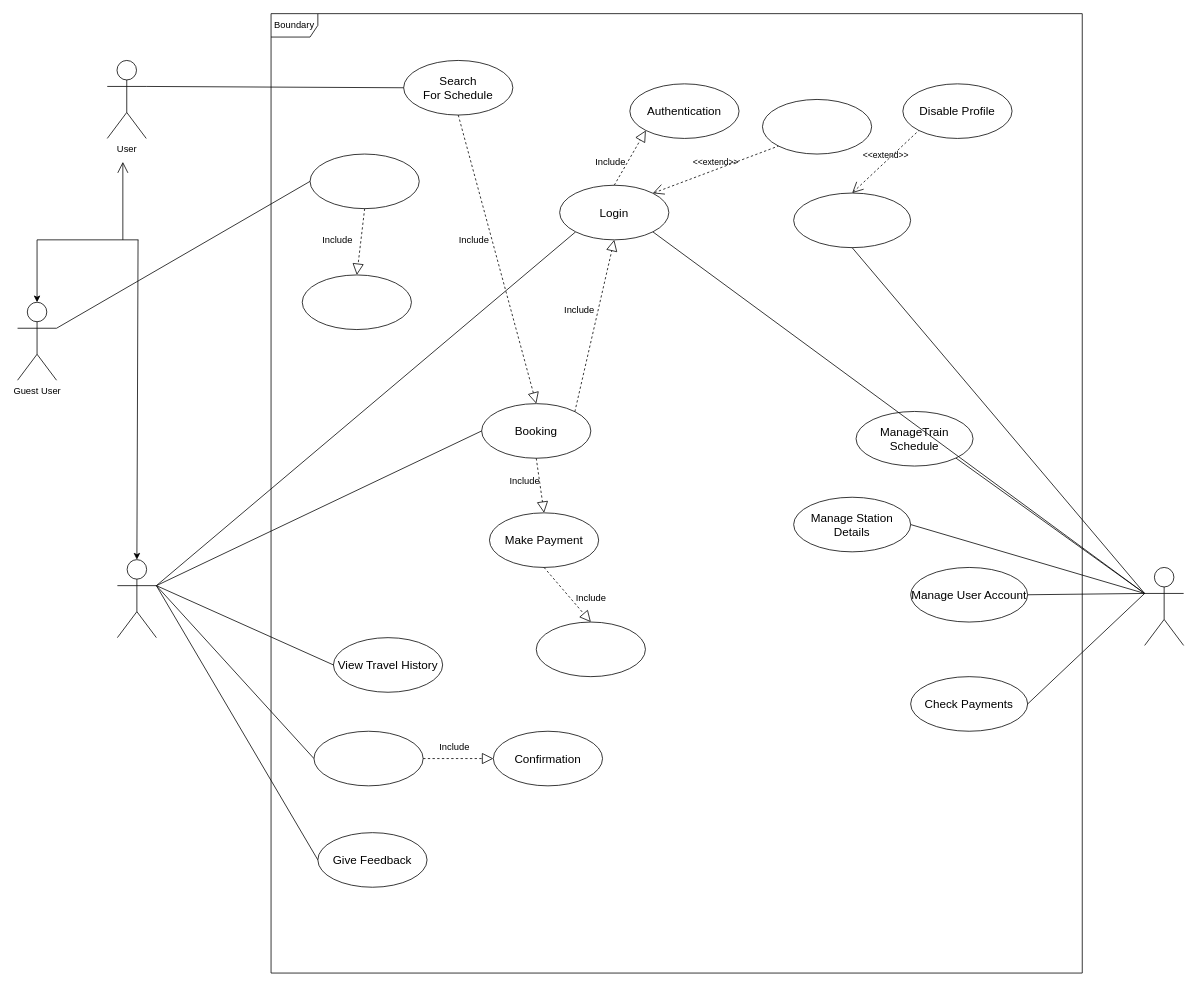
Some shapes in this 1197 by 987 pixel diagram are drawn without their labels. Each missing label, with the box of its shape:
Admin: (1144, 567, 1184, 645)
Cancellation: (313, 730, 423, 786)
Create an account: (309, 153, 419, 209)
Generate QR Code: (535, 621, 645, 677)
Manage Profile: (793, 192, 911, 248)
Registered User: (117, 559, 156, 638)
Reset Password: (762, 99, 872, 154)
Validate registration details: (301, 274, 411, 330)
